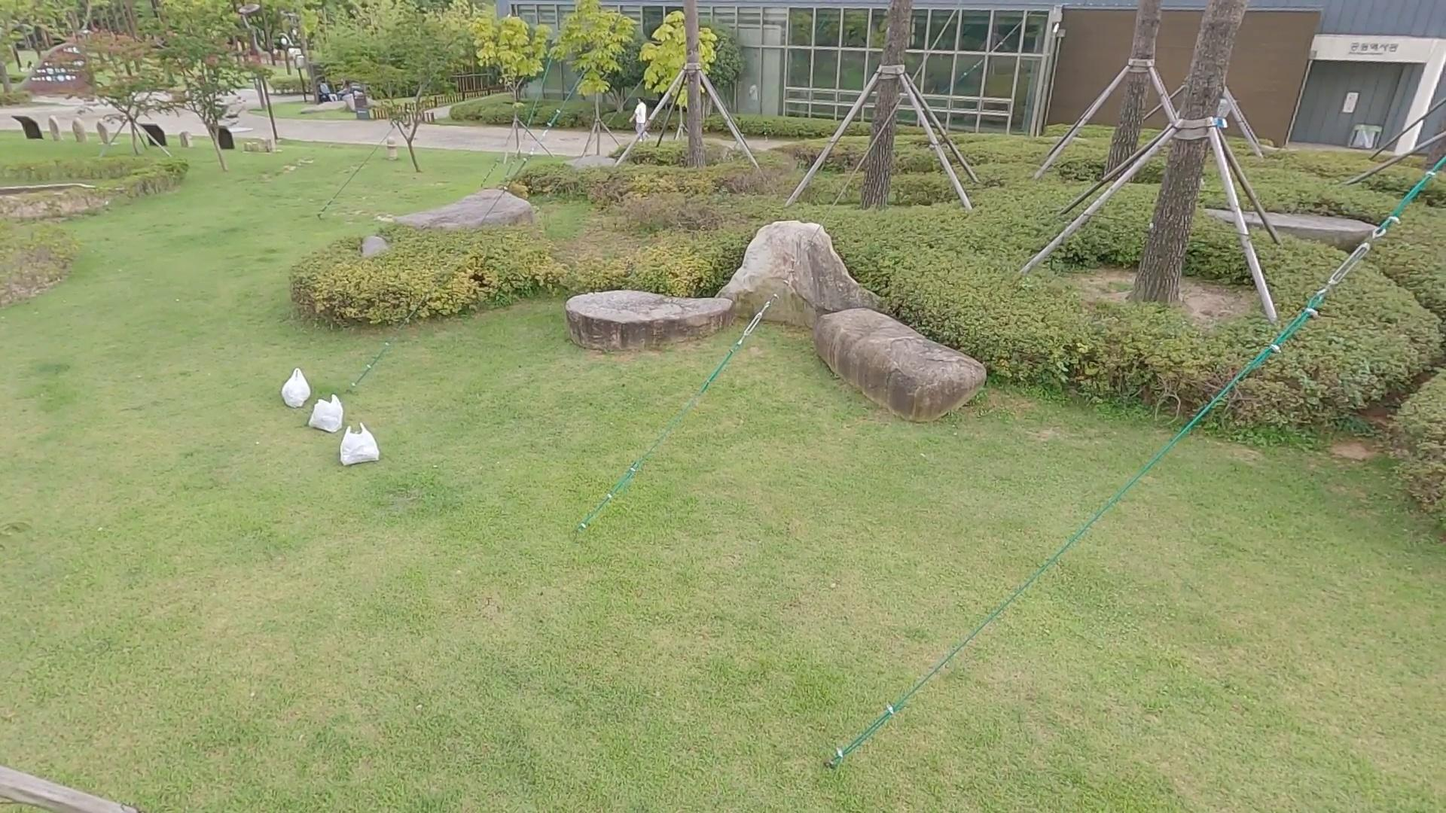trash: (335, 420, 379, 470), (304, 393, 346, 440), (275, 355, 312, 408)
